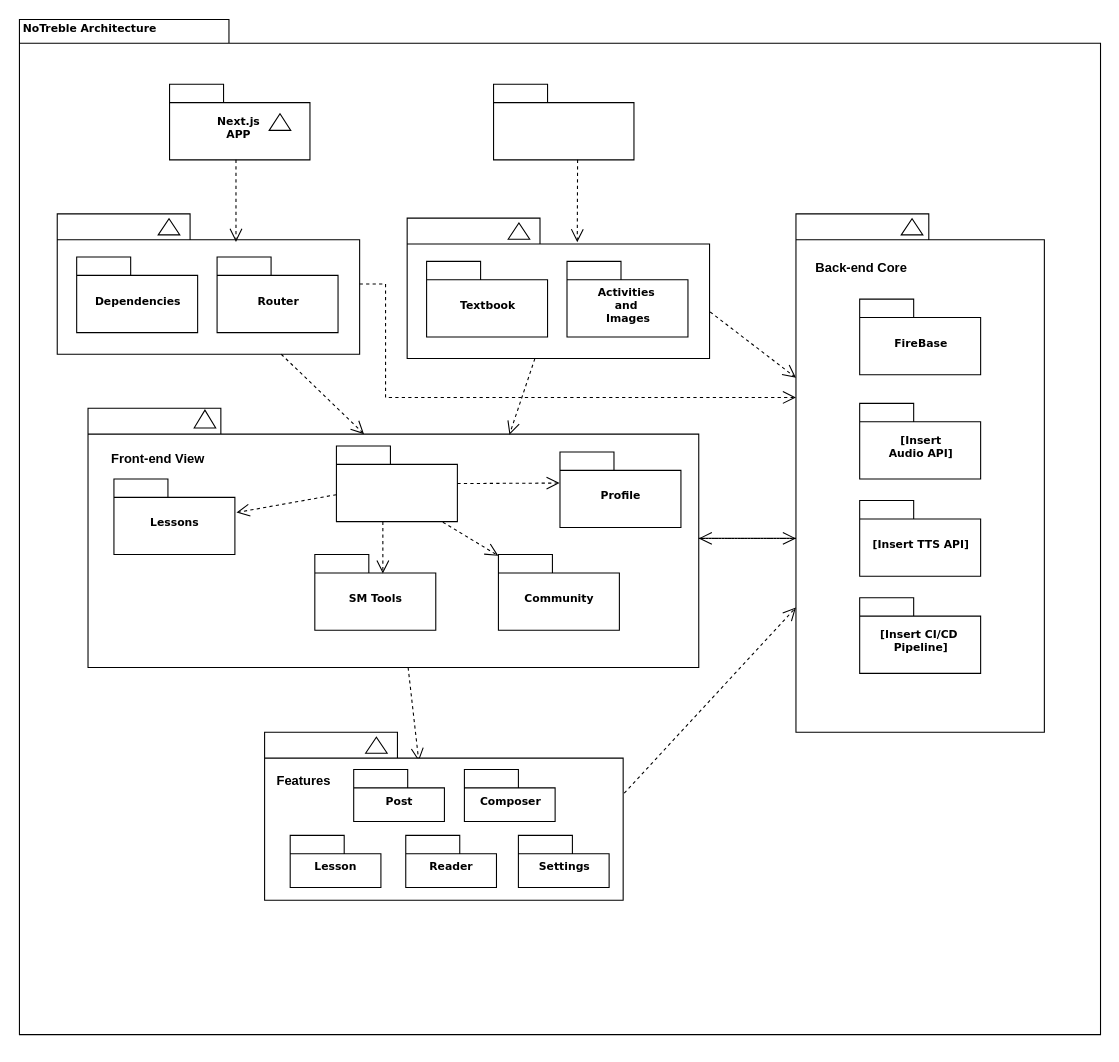
Some shapes in this 1119 by 1062 pixel diagram are drawn without their labels. Here are the shapes that lost their labels. From the top down, the centre of each, then its label:
At point (563, 121): "Open Music Theory".
At point (396, 483): "Landing".
